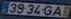3: (25, 3, 34, 14), (8, 2, 17, 13)
4: (33, 4, 40, 15)
9: (16, 3, 25, 14)
A: (50, 5, 62, 16)
G: (43, 4, 52, 15)
